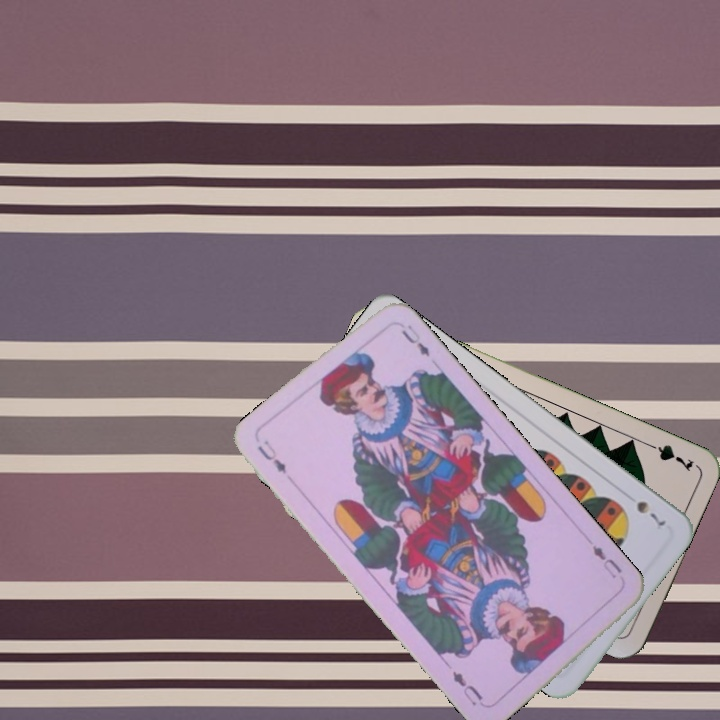EU: (585, 536, 625, 581), (253, 436, 290, 477)
G7: (641, 438, 696, 475)
S7: (632, 496, 669, 529)
